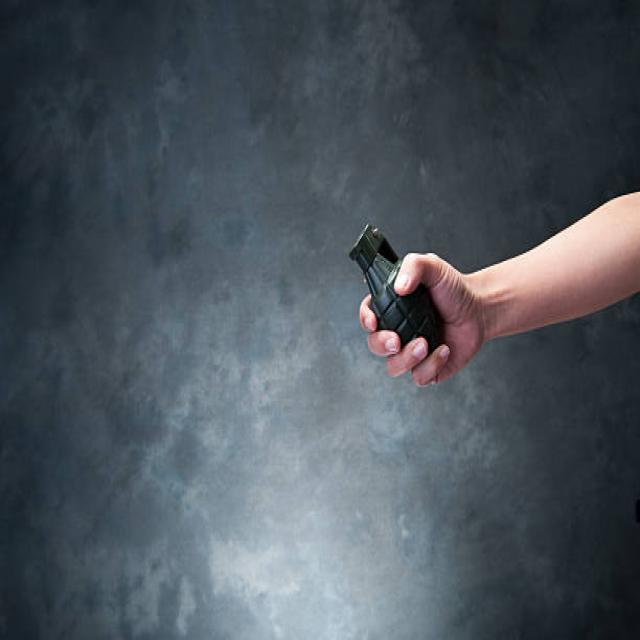grenade: (348, 218, 444, 351)
